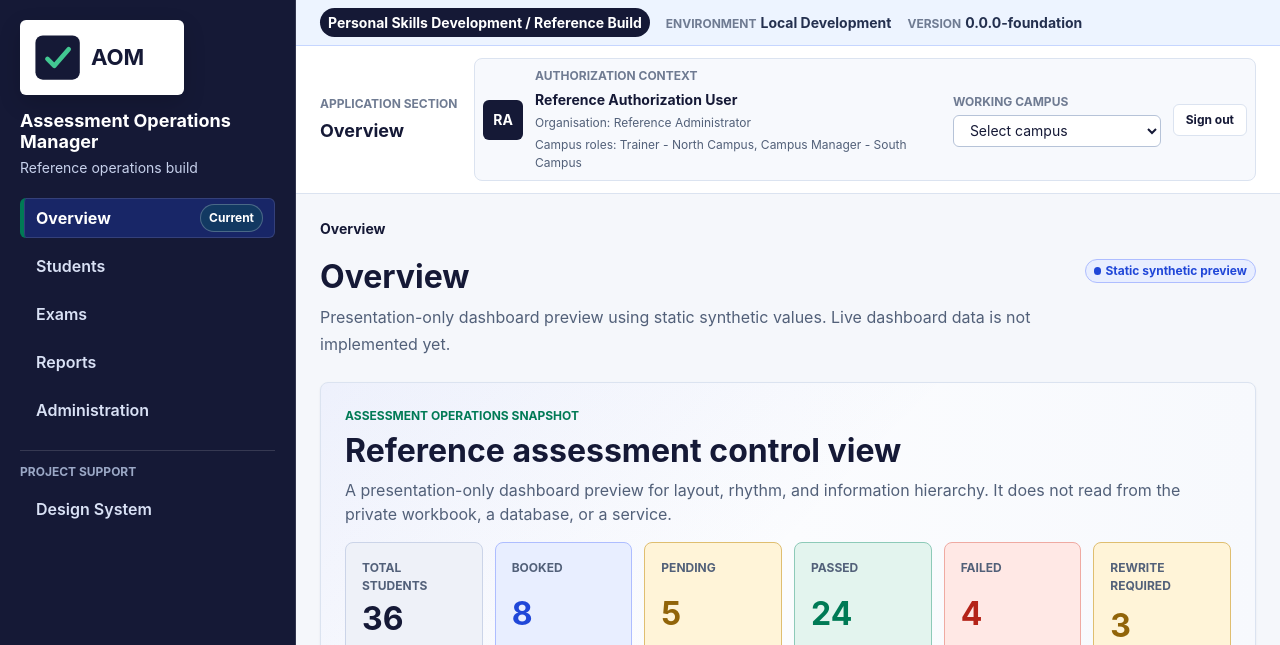
Test: application routing foundation › requires explicit working-campus selection and preserves it across app navigation
The image size is (1280, 645).
Expected: the text "Organisation: Reference Administrator" is shown, [535,115,751,130]
Expected: the text "Campus roles: Trainer - North Campus, Campus Manager - South Campus" is shown, [535,136,941,172]
Select "North Campus" in the dropdown labelled "Working campus" at (1057, 130), box [953,114,1161,146]
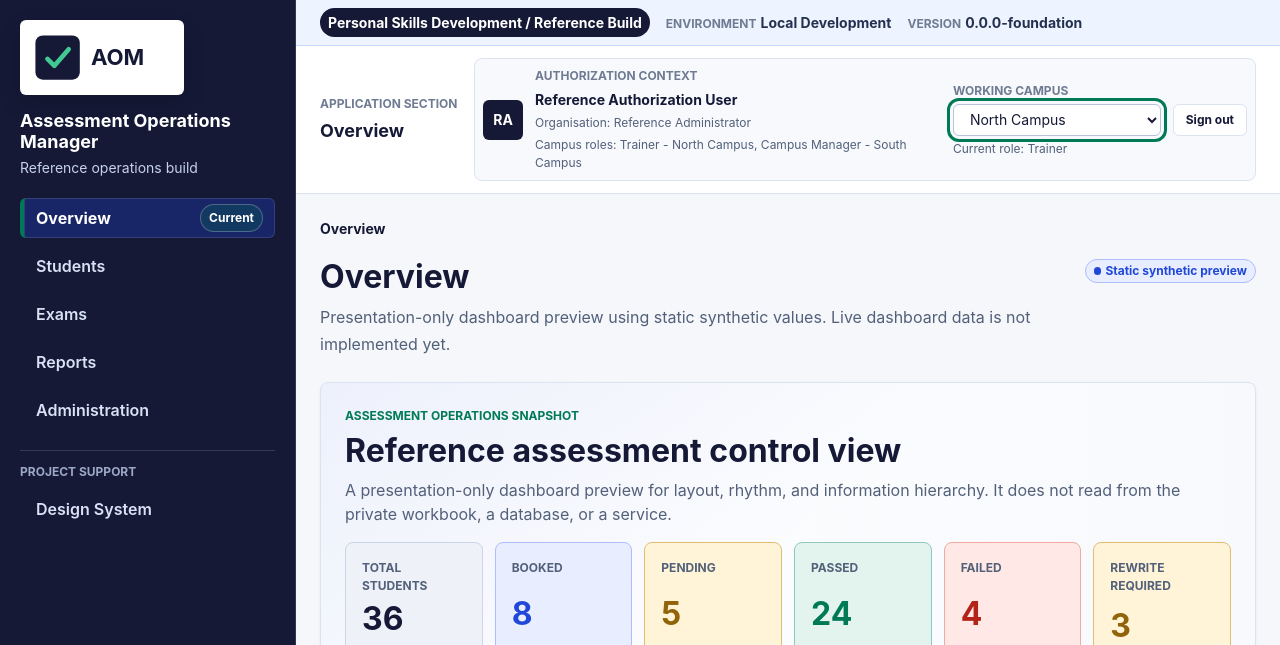
Expected: the text "Current role: Trainer" is shown, [953,140,1067,156]
Click the link "Students" at (71, 266), box [36,256,105,276]
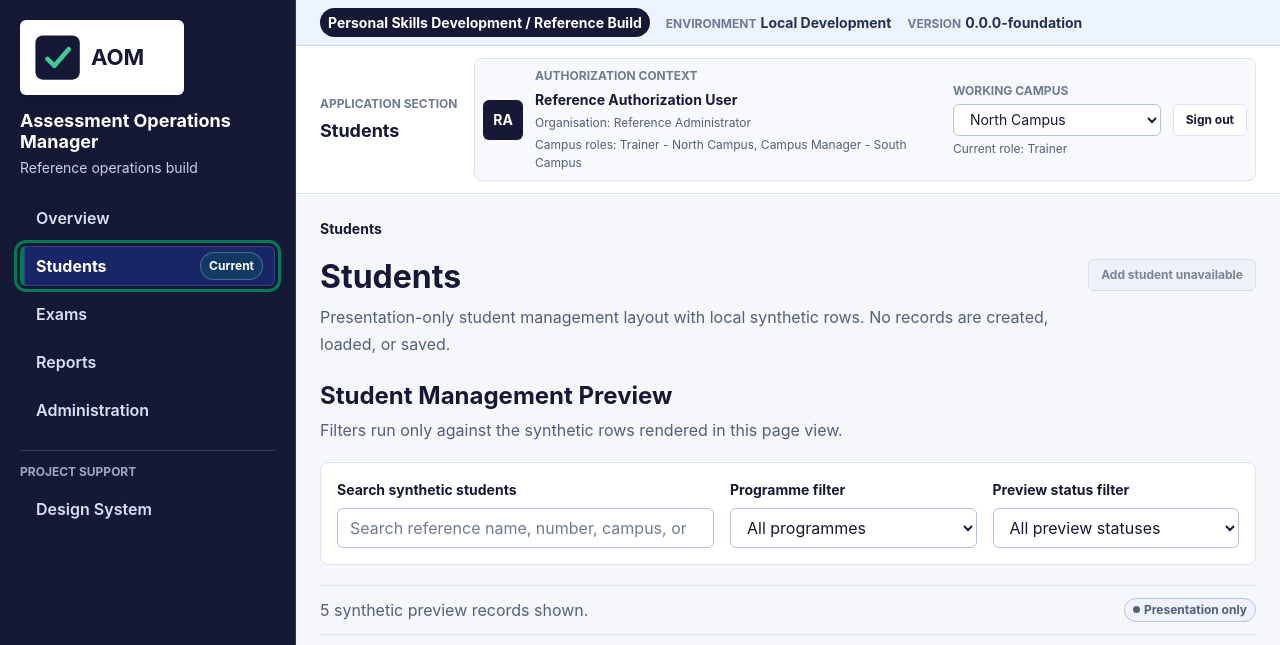
Expected: the heading "Students" is shown, [320,257,461,296]
Select "South Campus" in the dropdown labelled "Working campus" at (1057, 120), box [953,104,1161,136]
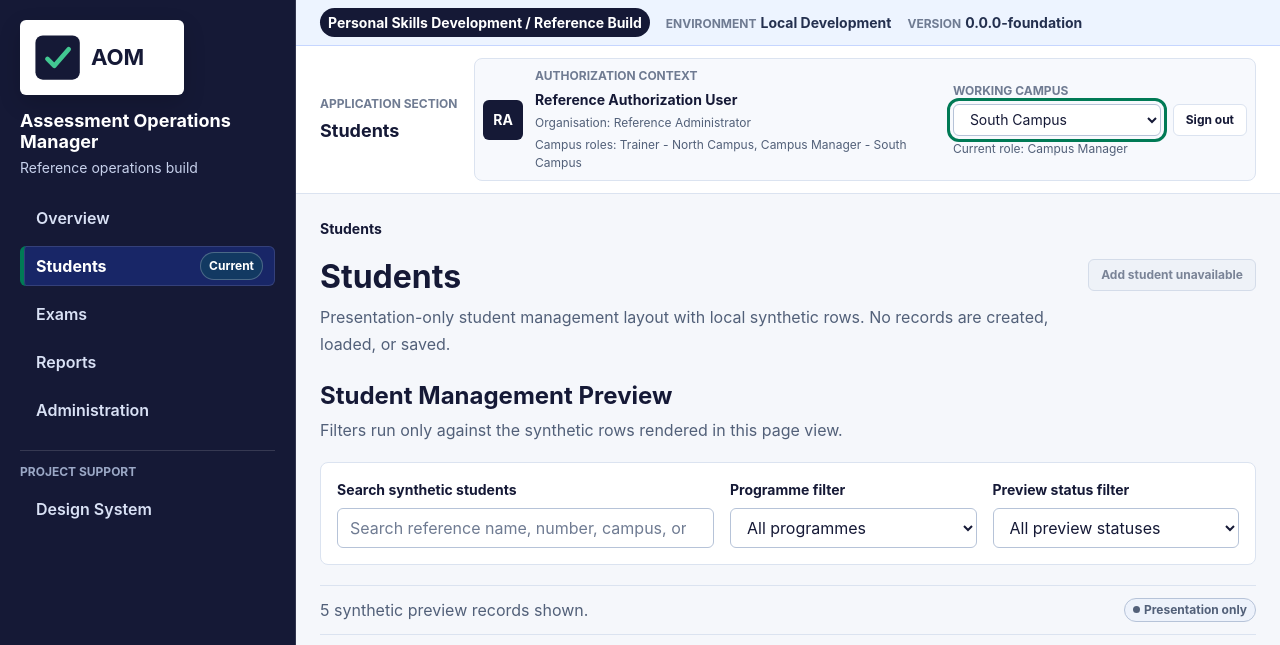
Expected: the text "Current role: Campus Manager" is shown, [953,140,1128,156]
